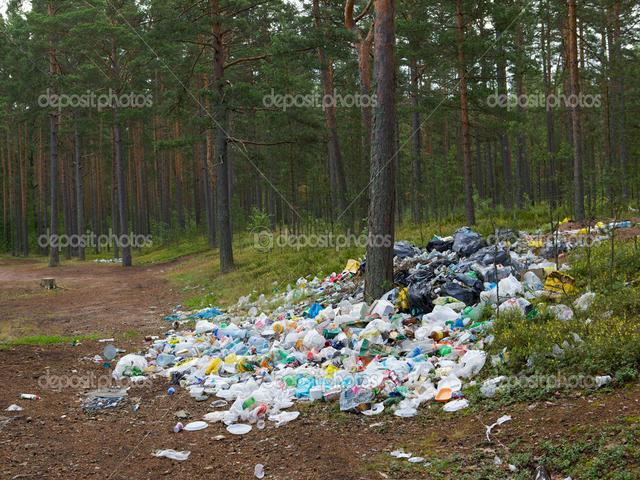garbage: (185, 321, 452, 401)
